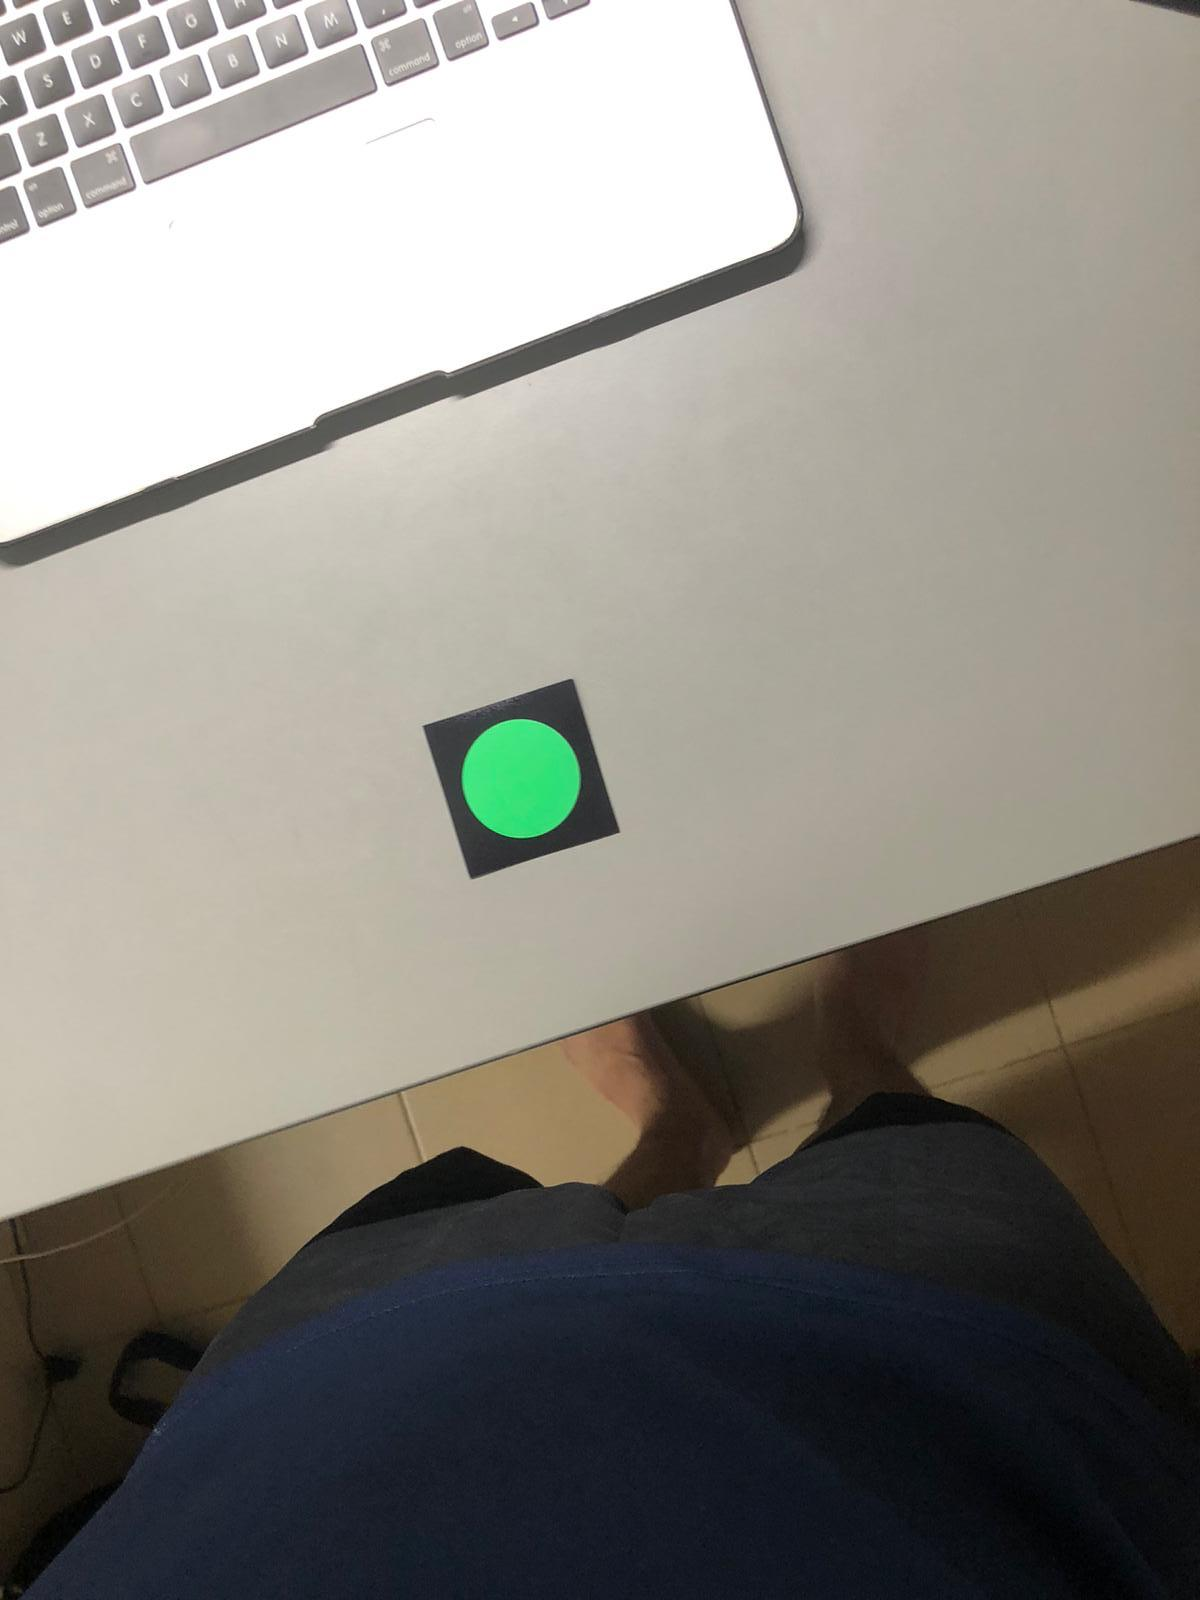Circle: (442, 702, 601, 871)
